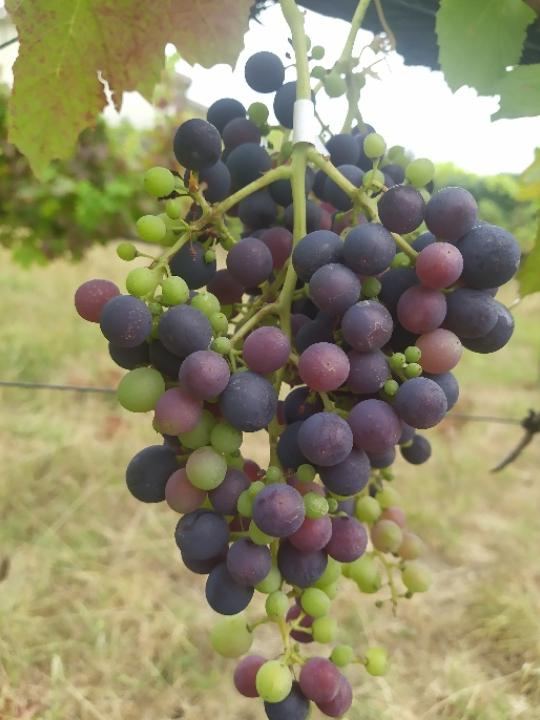grape: (72, 48, 524, 720)
